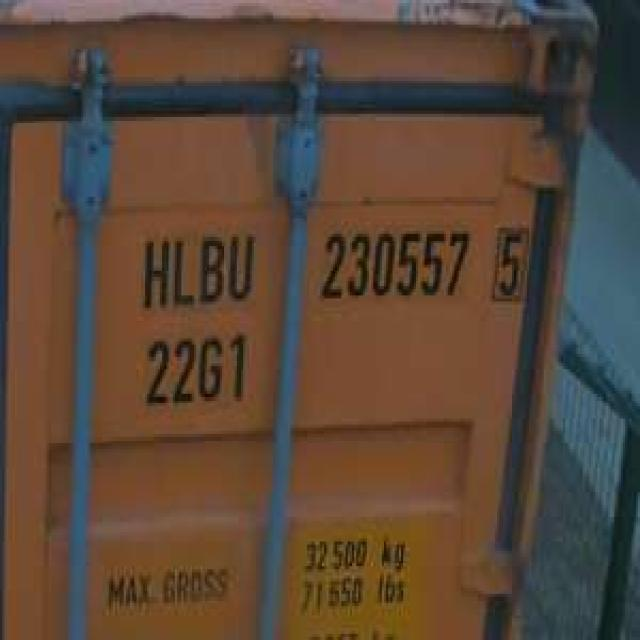dv: (485, 218, 530, 307)
owner: (139, 230, 258, 310)
serial: (318, 226, 471, 303)
size: (137, 325, 248, 411)
